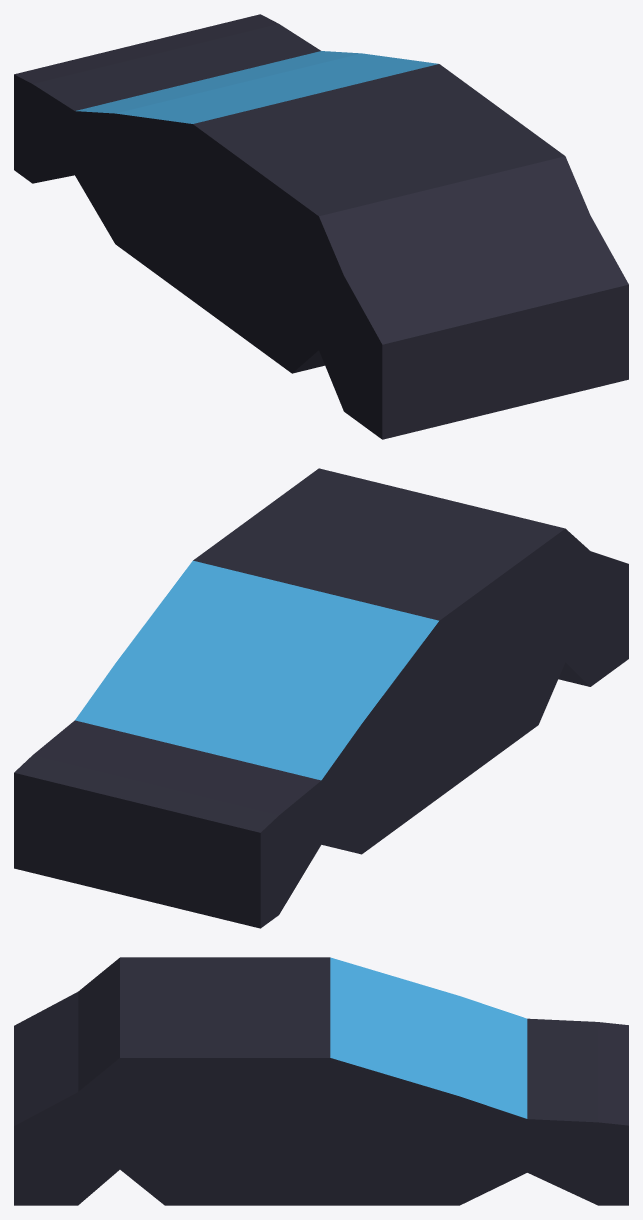
The model's file is test_car.glb.
3 renders of one model, top to bottom at view 1: azimuth 30°, elevation 25°; view 2: azimuth 150°, elevation 25°; view 3: azimuth 270°, elevation 25°, orthographic. The views are drawn at different scales.
Visible parts, largest first — view 1: Cube; view 2: Cube; view 3: Cube.
Part boxes in pixels (bbox=[...]): Cube: bbox=[14, 14, 628, 439]; Cube: bbox=[14, 468, 628, 928]; Cube: bbox=[14, 957, 628, 1205].
Bounding box in the file's own units: 1.75 × 1.2 × 4.53.
